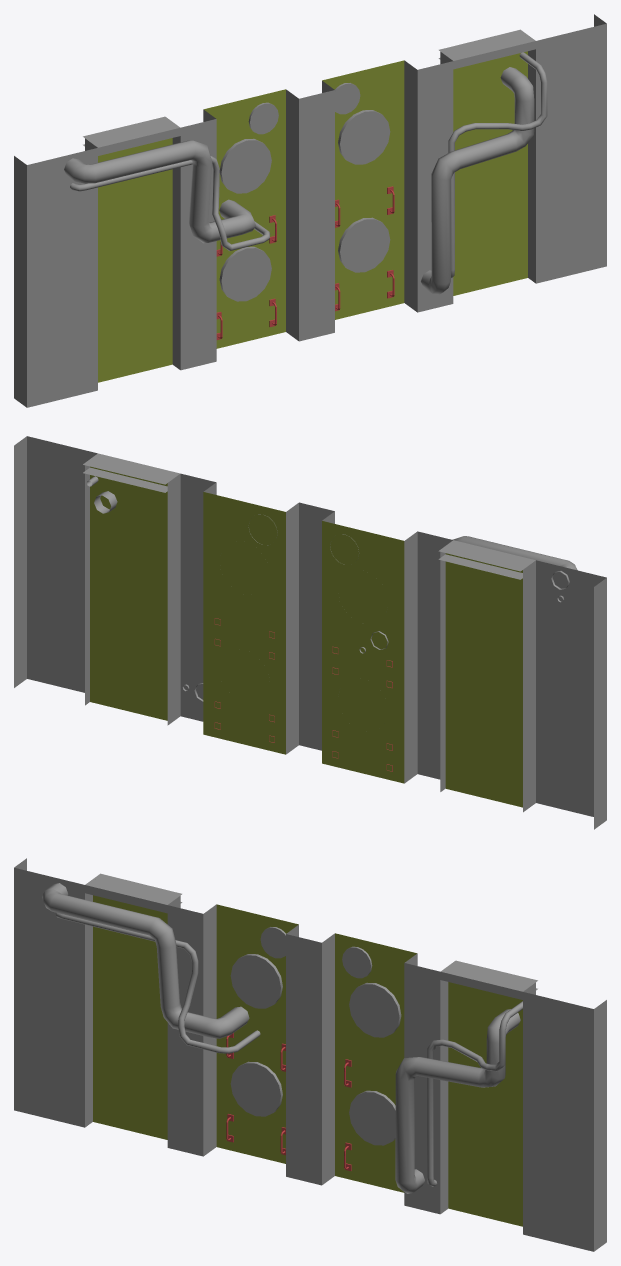
The model's file is wall5b lod0.FBX.
3 views of the same model, one above another, from view 1: azimuth 30°, elevation 25°; view 2: azimuth 150°, elevation 25°; view 3: azimuth 330°, elevation 25° (orthographic).
Parts seen in each view (by area): view 1: Object260; view 2: Object260; view 3: Object260.
Part boxes in pixels (bbox=[...]): Object260: bbox=[14, 14, 606, 407]; Object260: bbox=[14, 436, 606, 829]; Object260: bbox=[14, 858, 606, 1251].
Size of the model in its own units: 10 by 4 by 0.9562.
